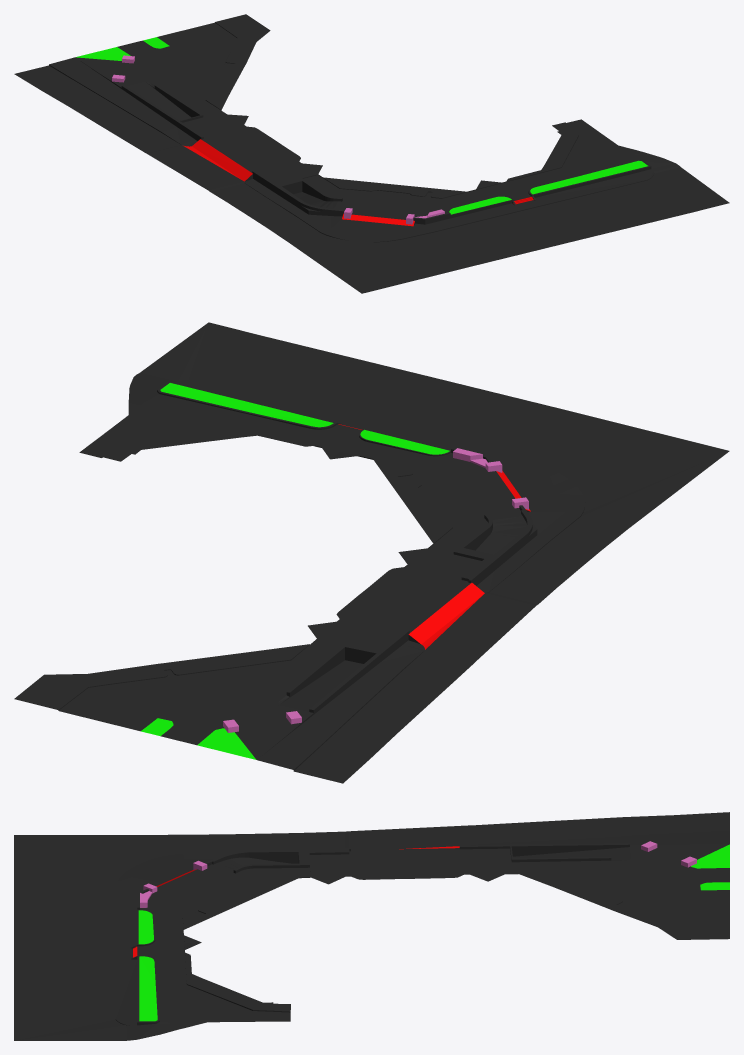
Rendered from beijing_hetugongsi_ground.FBX.
The picture shows the model from 3 angles, top to bottom: view 1: azimuth 30°, elevation 25°; view 2: azimuth 150°, elevation 25°; view 3: azimuth 270°, elevation 25°; orthographic projection. The views are drawn at different scales.
Parts seen in each view (by area): view 1: ground_01; view 2: ground_01; view 3: ground_01.
Part boxes in pixels (x1,y1,x2,y2): ground_01: [14, 14, 729, 293]; ground_01: [14, 322, 729, 783]; ground_01: [14, 812, 729, 1040].
Size of the model in its own units: 114 by 151 by 3.43.
